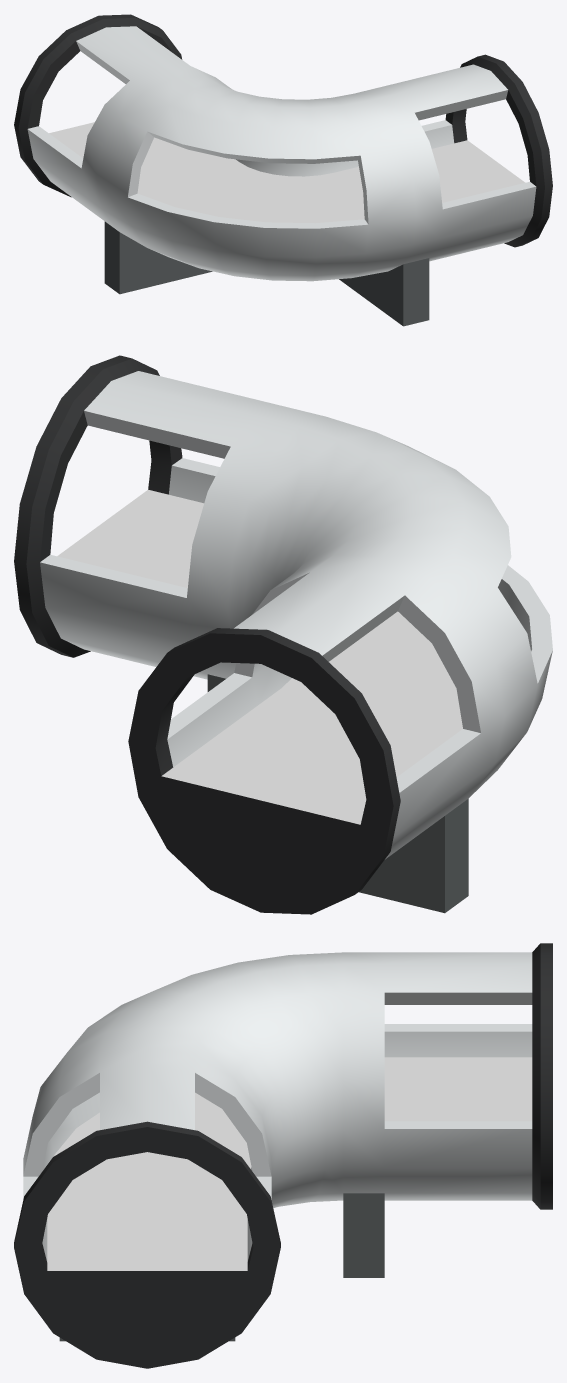
The model's file is m_Dev_Conveyor_RightTurn.fbx.
3 renders of one model, top to bottom at view 1: azimuth 30°, elevation 25°; view 2: azimuth 150°, elevation 25°; view 3: azimuth 270°, elevation 25°, orthographic. The views are drawn at different scales.
Visible parts, largest first — view 1: ConveyorTurn; view 2: ConveyorTurn; view 3: ConveyorTurn.
Part boxes in pixels (box(x1,y1,x2,y2)): ConveyorTurn: box(14, 14, 552, 326); ConveyorTurn: box(14, 355, 552, 914); ConveyorTurn: box(14, 943, 552, 1368).
Size of the model in its own units: 66.45 by 38.83 by 66.45.
